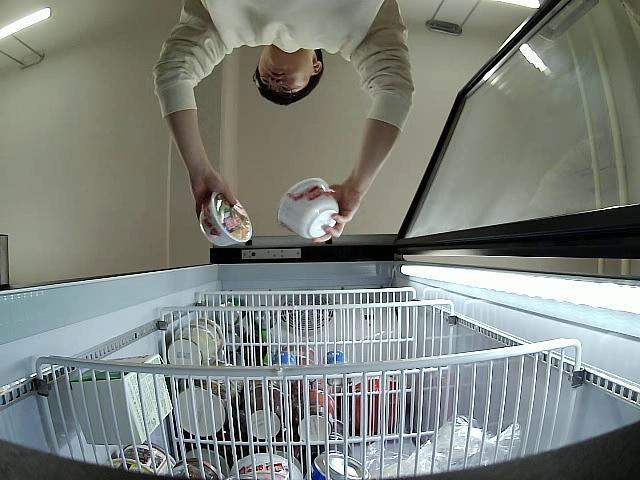09_yukGaeJang: (279, 178, 340, 241), (199, 190, 252, 247)
